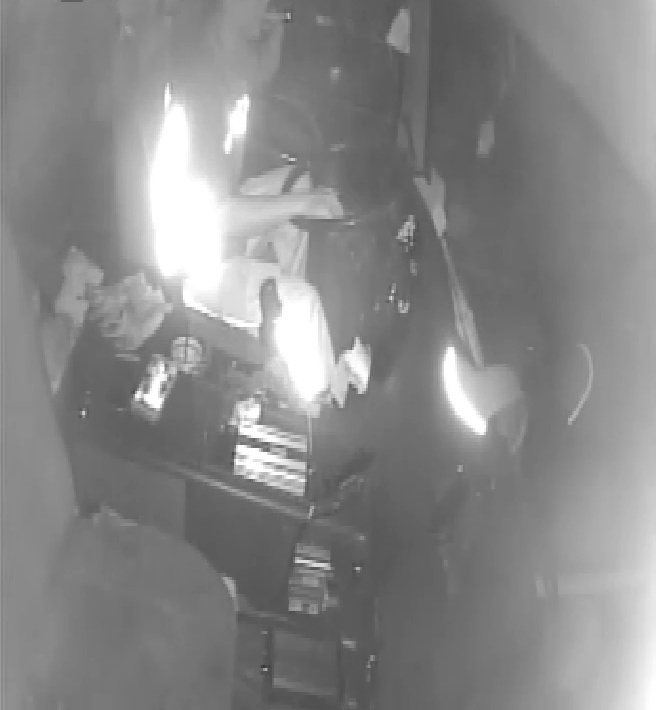cellphone: (128, 352, 182, 426)
